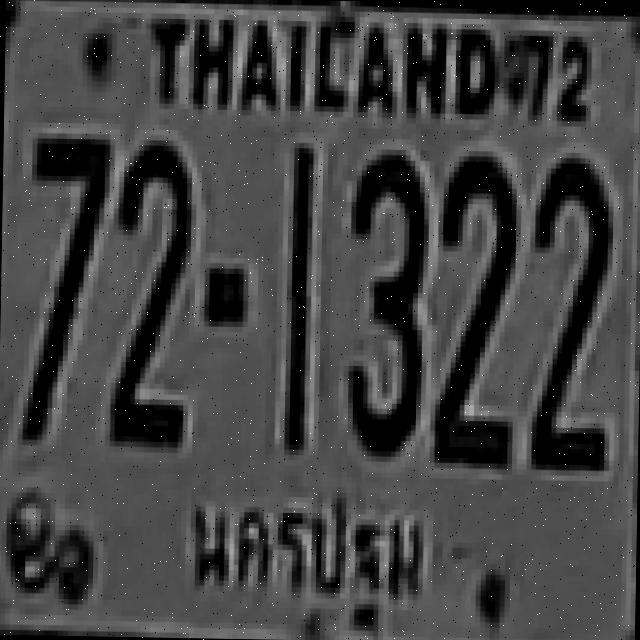0: (528, 152, 610, 349)
1: (288, 142, 311, 344)
2: (430, 256, 510, 458)
7: (28, 132, 108, 292)
NakhonPathom: (171, 480, 438, 628)
